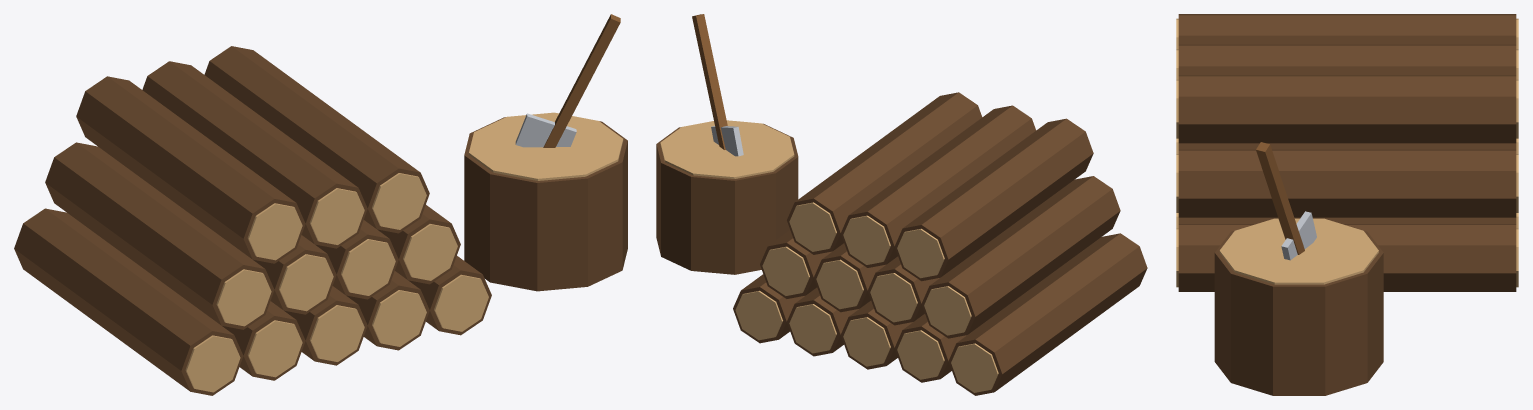
Rendered from for_woodpile_v01.glb.
3 views of the same model, side by side, from view 1: azimuth 30°, elevation 25°; view 2: azimuth 150°, elevation 25°; view 3: azimuth 270°, elevation 25° (orthographic). The views are drawn at different scales.
Parts seen in each view (by area): view 1: woodpile; view 2: woodpile; view 3: woodpile.
Part boxes in pixels (x1,y1,x2,y2): woodpile: (14, 14, 627, 395); woodpile: (656, 14, 1147, 395); woodpile: (1176, 14, 1518, 395).
Size of the model in its own units: 2.38 by 1.11 by 1.42.
